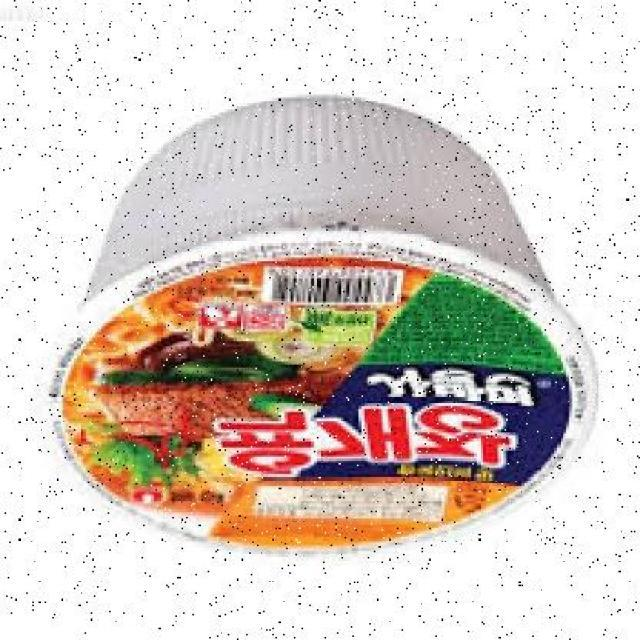Miscellaneous: (47, 80, 616, 560)
